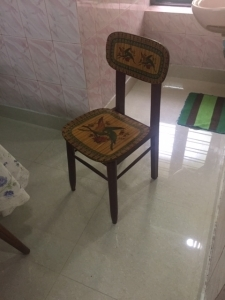chair: (60, 32, 170, 224)
